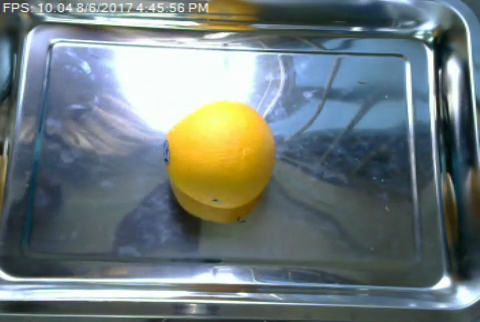Orange: (163, 100, 275, 208)
